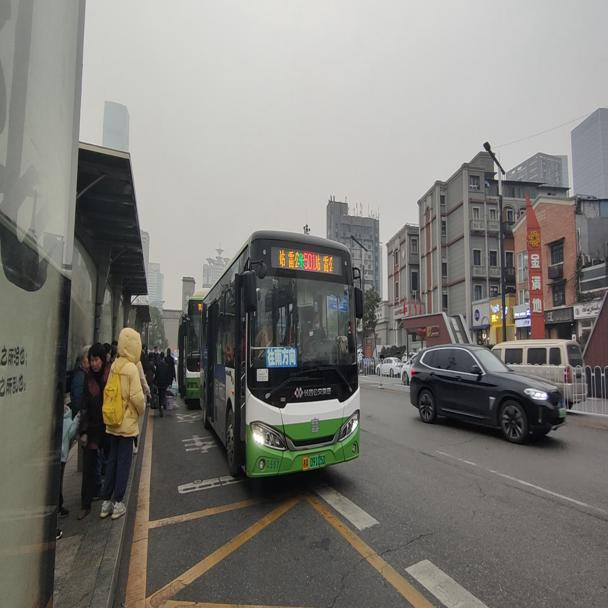bus: (201, 229, 365, 479), (175, 297, 202, 405)
screen: (301, 244, 315, 274)
